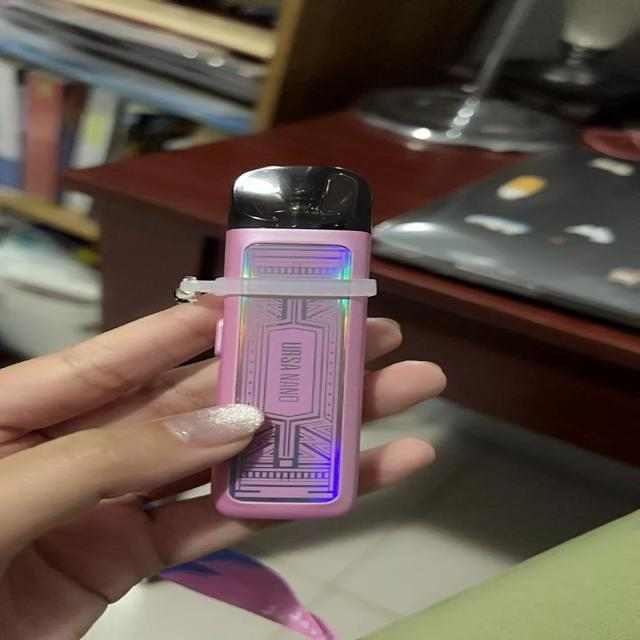Hazard: (220, 164, 374, 524)
